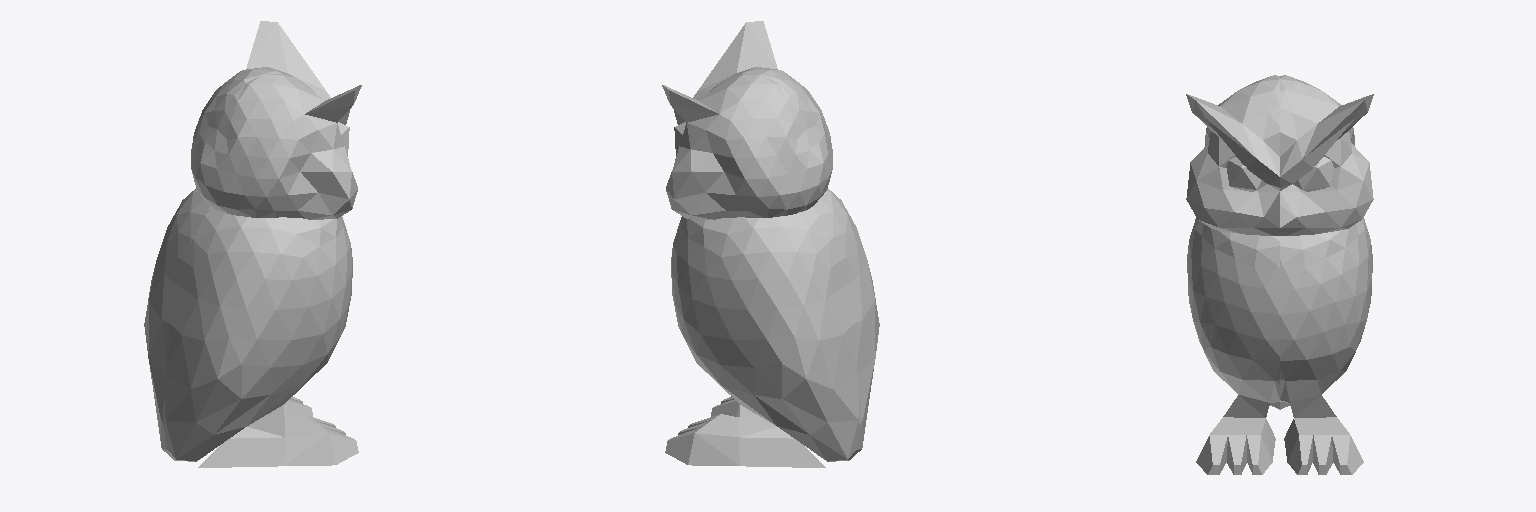
Rendered from XorOwl.obj.
3 views of the same model, side by side, from view 1: azimuth 30°, elevation 25°; view 2: azimuth 150°, elevation 25°; view 3: azimuth 270°, elevation 25° (orthographic).
Parts seen in each view (by area): view 1: Icosphere.001_Icosphere.002; view 2: Icosphere.001_Icosphere.002; view 3: Icosphere.001_Icosphere.002.
Part boxes in pixels (x1,y1,x2,y2): Icosphere.001_Icosphere.002: (144, 21, 361, 467); Icosphere.001_Icosphere.002: (662, 21, 879, 467); Icosphere.001_Icosphere.002: (1186, 75, 1373, 474).
Size of the model in its own units: 18.8 by 36.27 by 16.53.